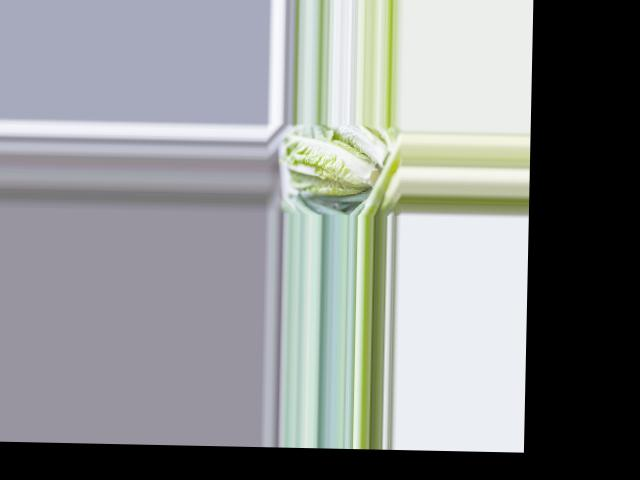lettuce: (280, 133, 380, 197)
